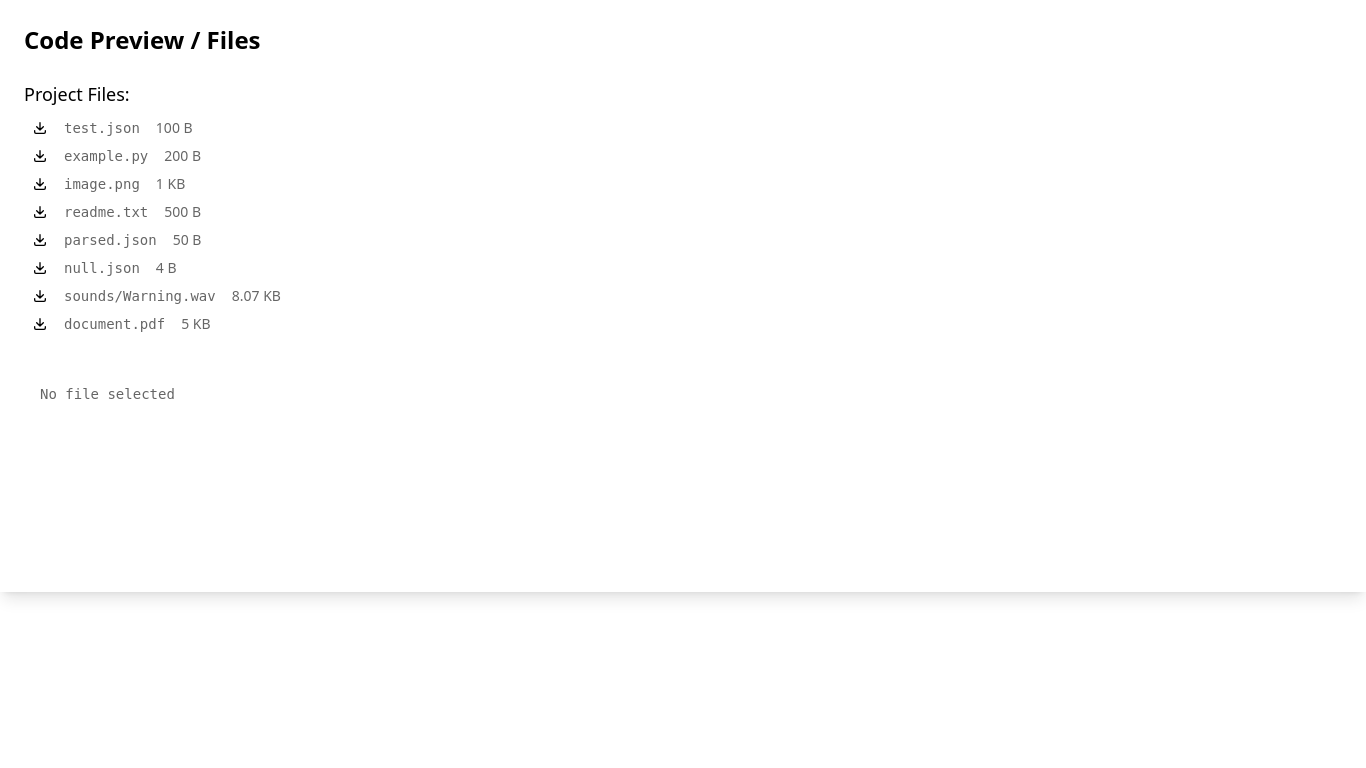
Test case: AppCodePreview › shows no preview message for unsupported file types
This screenshot has width=1366, height=768.
// Click on PDF file
Click the button "document.pdf" at coordinates (115, 324), box [64,314,165,334]
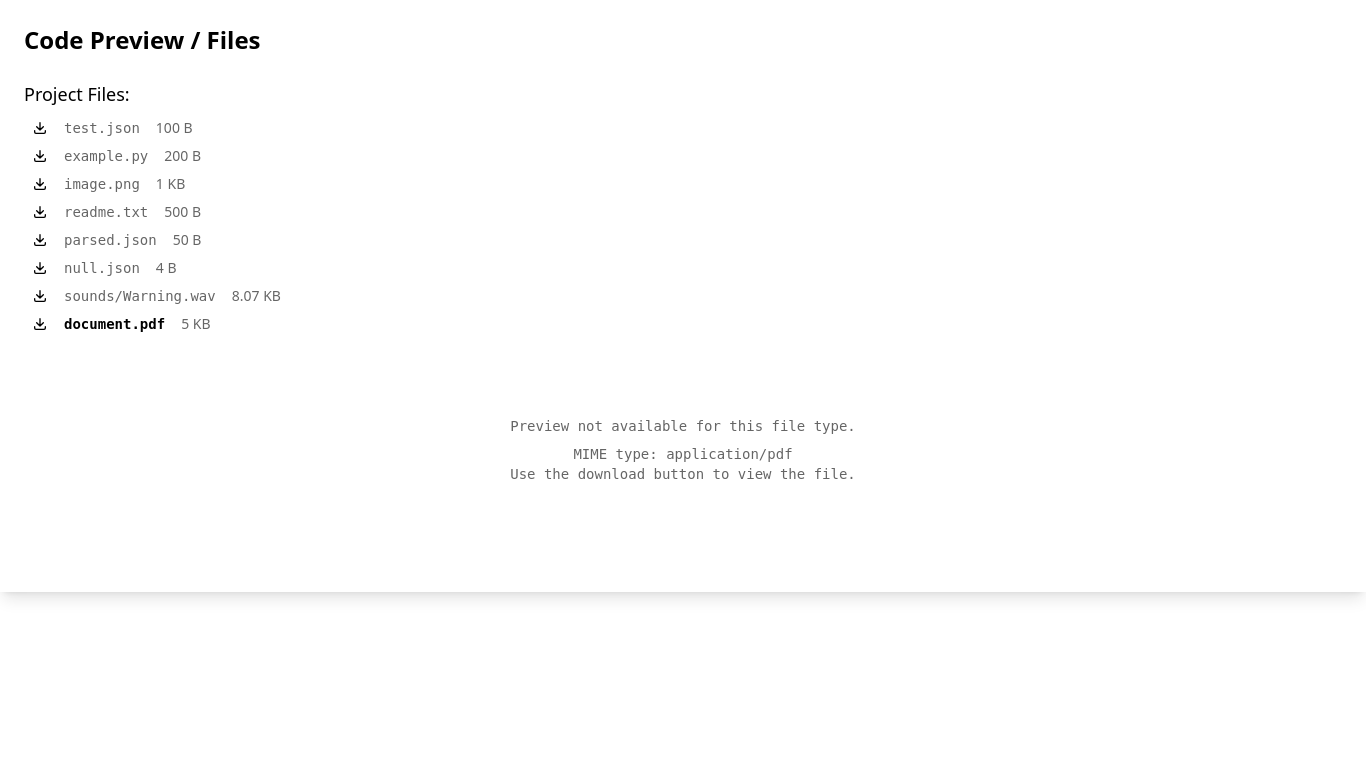
Now the text "Preview not available for this file type." is shown, box [510,418,856,434]
Now the text "MIME type: application/pdf" is shown, box [573,446,793,462]
